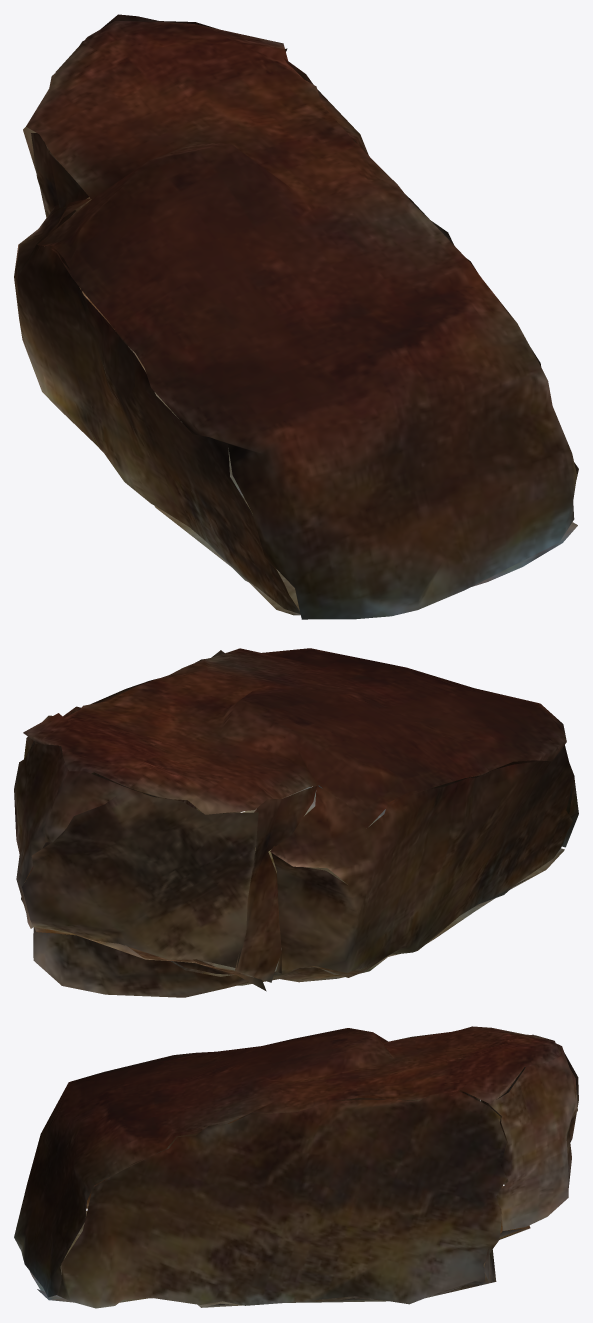
File: rock_07.glb
3 renders of one model, top to bottom at view 1: azimuth 30°, elevation 25°; view 2: azimuth 150°, elevation 25°; view 3: azimuth 270°, elevation 25°, orthographic. The views are drawn at different scales.
Parts seen in each view (by area): view 1: rock_07; view 2: rock_07; view 3: rock_07.
Boxes of the visible parts, box(x1,y1,x2,y2) form: rock_07: box(14, 14, 578, 619); rock_07: box(14, 648, 578, 997); rock_07: box(14, 1026, 578, 1308).
Size of the model in its own units: 1.06 by 0.8958 by 2.
1 material, 1 textured.
